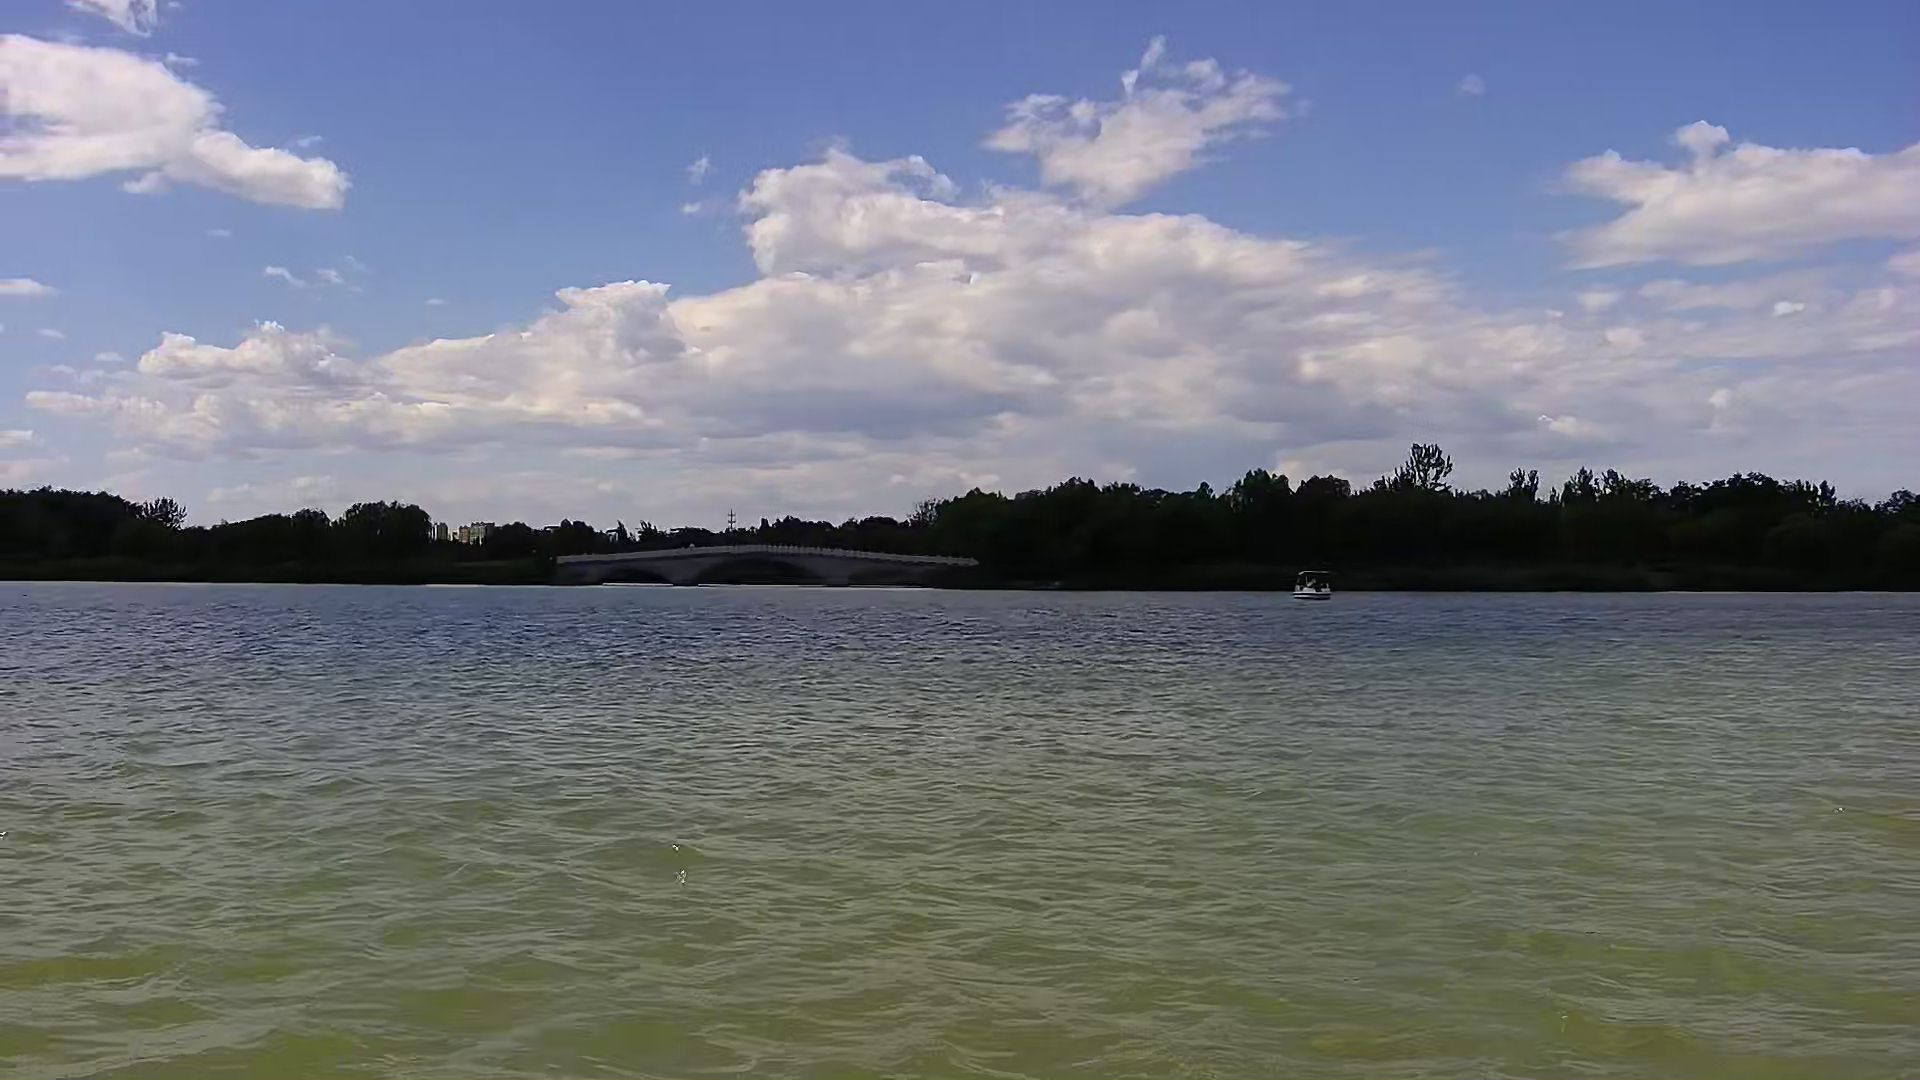boat: (1283, 560, 1344, 603)
bridge: (549, 538, 992, 593)
